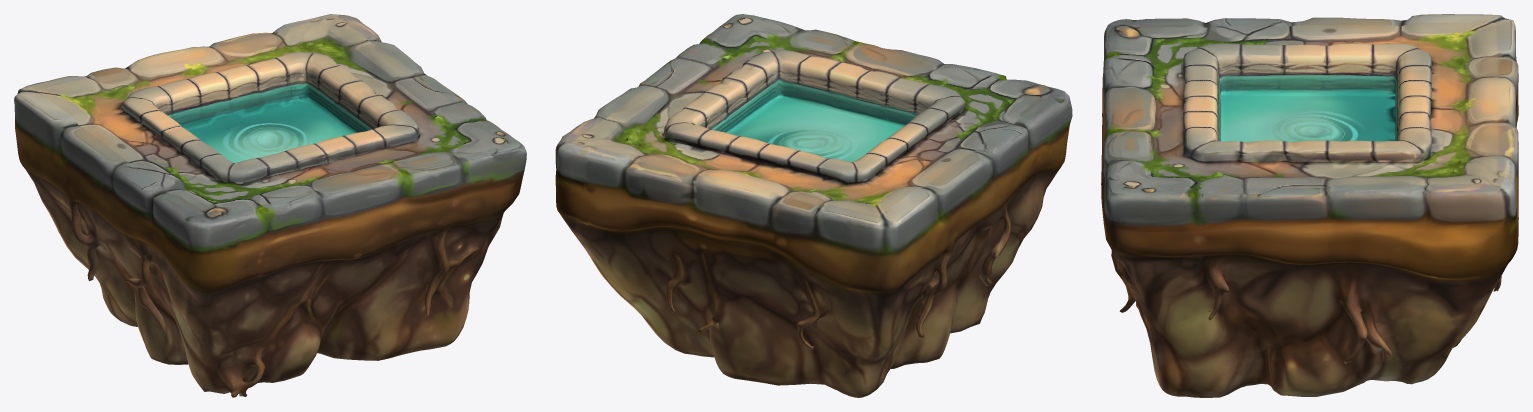
Rendered from Well2_Tile.glb.
The picture shows the model from 3 angles, left to right: view 1: azimuth 30°, elevation 25°; view 2: azimuth 150°, elevation 25°; view 3: azimuth 270°, elevation 25°; orthographic projection. The views are drawn at different scales.
Parts seen in each view (by area): view 1: Mesh_0.001; view 2: Mesh_0.001; view 3: Mesh_0.001.
Part boxes in pixels (x1,y1,x2,y2): Mesh_0.001: [14, 14, 526, 397]; Mesh_0.001: [555, 14, 1072, 397]; Mesh_0.001: [1101, 14, 1518, 397].
Bounding box in the file's own units: 6.53 × 4 × 6.3.
1 material, 1 textured.
